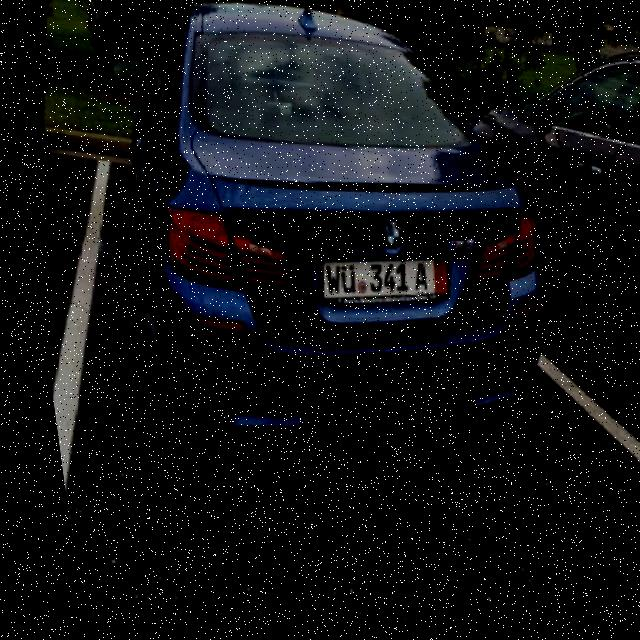license_plate: (304, 240, 449, 326)
